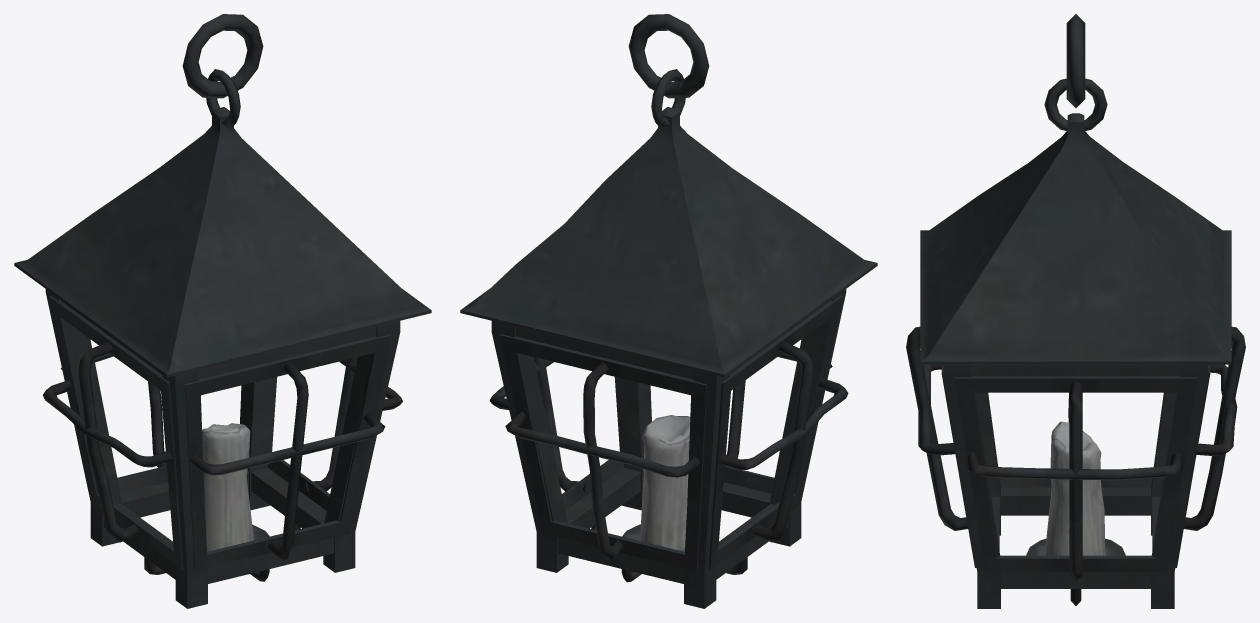
Rendered from AEG004_859-transformed.glb.
The picture shows the model from 3 angles, left to right: view 1: azimuth 30°, elevation 25°; view 2: azimuth 150°, elevation 25°; view 3: azimuth 270°, elevation 25°; orthographic projection.
Visible parts, largest first — view 1: default; view 2: default; view 3: default.
Boxes of the visible parts, x1=… form: default: x1=14, y1=14, x2=431, y2=608; default: x1=460, y1=14, x2=877, y2=608; default: x1=906, y1=14, x2=1245, y2=608.
Bounding box in the file's own units: 0.2407 × 0.434 × 0.2407.
1 material, 1 textured.
